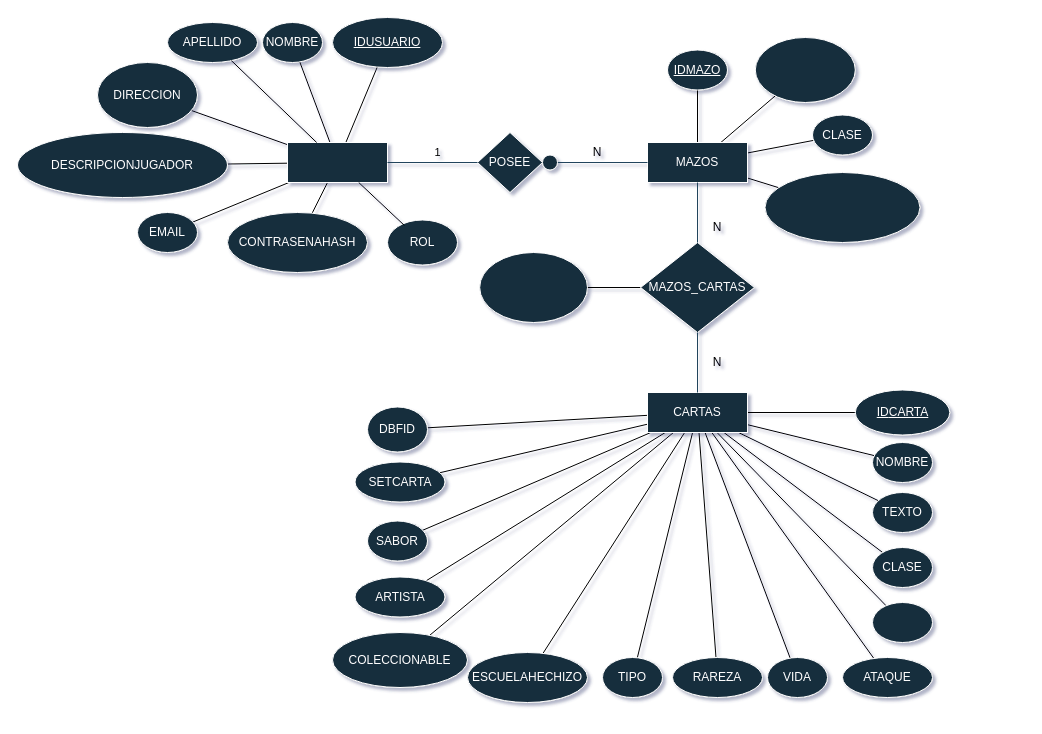
Some shapes in this 1042 by 734 pixel diagram are drawn without their labels. Each missing label, with the centre of its shape:
CANTIDAD: pixel 533 287
COSTE: pixel 902 622
ES PREDETERMINADO: pixel 842 207
NOMBREMAZO: pixel 804 69
USUARIOS: pixel 337 162
